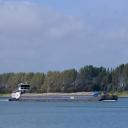tugboat: (9, 82, 33, 104)
